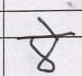e_matra: (38, 17, 57, 35)
